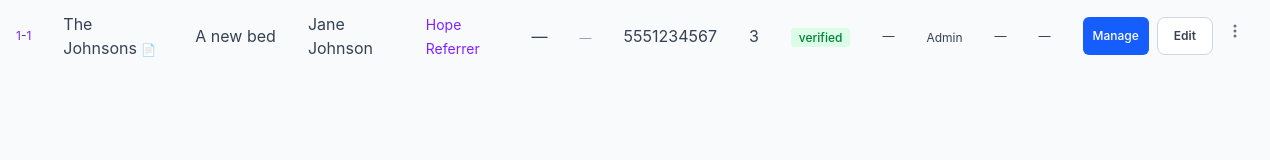
Test: FamilyTableRow › admin-locked row: Reset lock shown, Fully approve hidden, wish-list link present
The width and height of the screenshot is (1270, 160).
Check: the link named "View wish list" is shown, box [141,42,156,57]
What coordinates should you click on to do the following:
click the button named "More actions"
I would click on:
 (1235, 31)
Its box is [1221,17,1249,45].
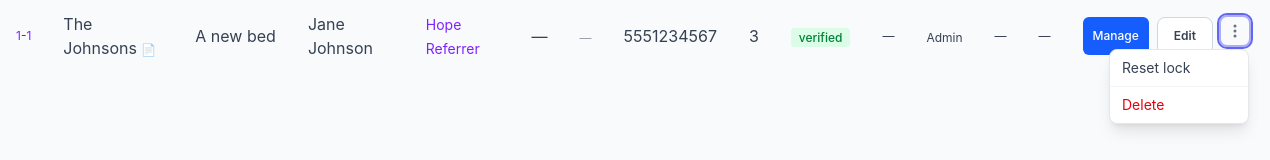
Check: the menu item "Reset lock" is shown, box [1110,50,1248,86]
